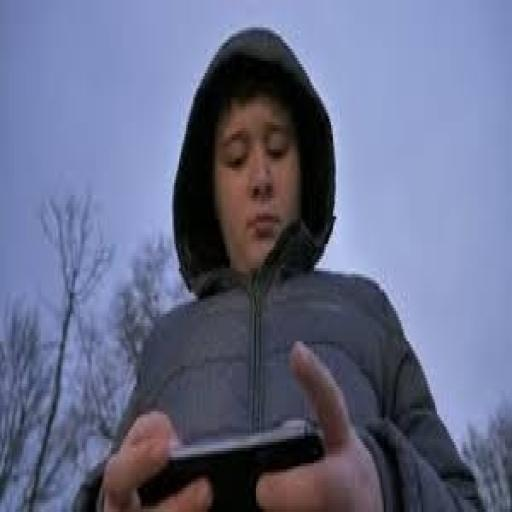texting: (76, 21, 484, 506)
